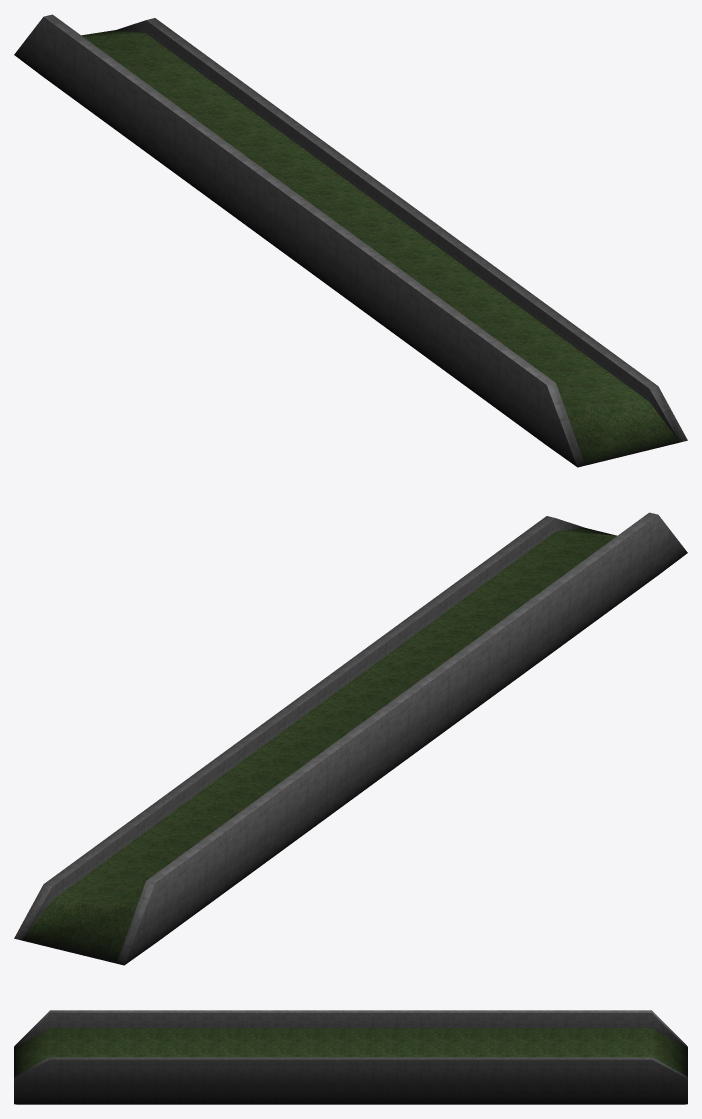
The model's file is KH_LEFT_AMB_50_05.glb.
The picture shows the model from 3 angles, top to bottom: view 1: azimuth 30°, elevation 25°; view 2: azimuth 150°, elevation 25°; view 3: azimuth 270°, elevation 25°; orthographic projection. The views are drawn at different scales.
Visible parts, largest first — view 1: LeftWall_50; view 2: LeftWall_50; view 3: LeftWall_50.
Part boxes in pixels (x1,y1,x2,y2): LeftWall_50: (14,14,687,467); LeftWall_50: (14,512,687,965); LeftWall_50: (14,1010,687,1104).
Bounding box in the file's own units: 6.41 × 5.67 × 56.
2 materials, 2 textured.
